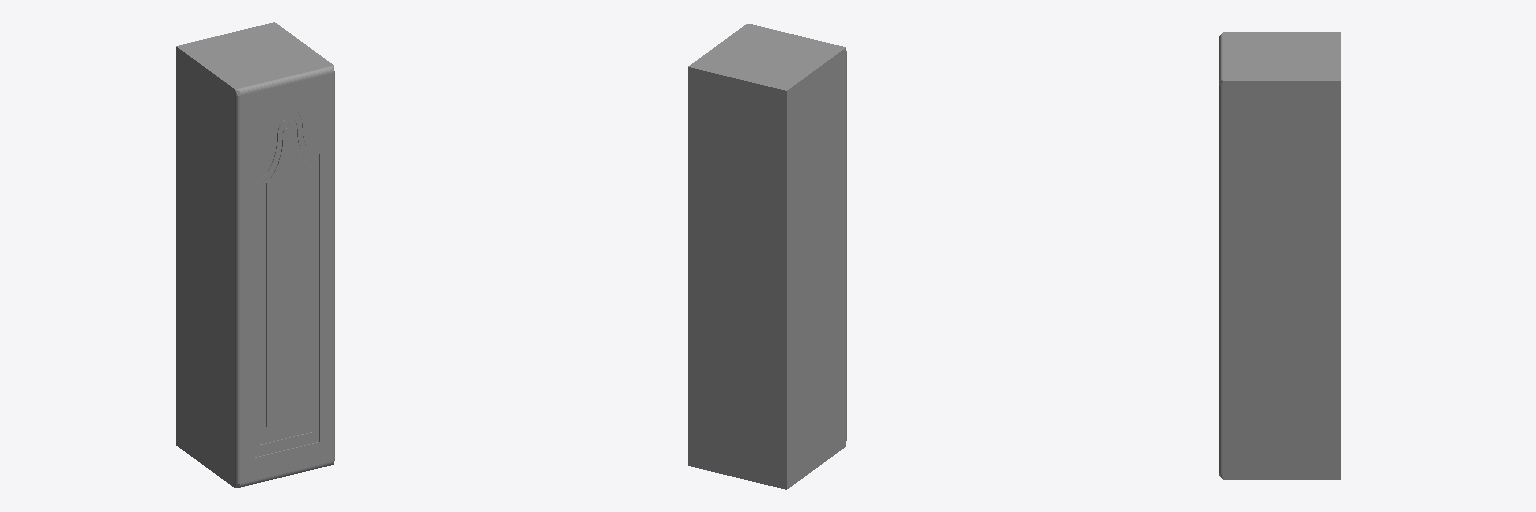
Rendered from larder-unit-550.obj.
3 renders of one model, left to right at view 1: azimuth 30°, elevation 25°; view 2: azimuth 150°, elevation 25°; view 3: azimuth 270°, elevation 25°, orthographic.
Visible parts, largest first — view 1: Cube.003_Cube.008, Cube.002_Cube.004, Cube_Cube.002; view 2: Cube_Cube.002, Cube.002_Cube.004, Cube.001_Cube.003; view 3: Cube.001_Cube.003, Cube_Cube.002, Cube.003_Cube.008.
Boxes of the visible parts, x1,y1,x2,y2 form: Cube.003_Cube.008: [235, 65, 334, 487]; Cube.002_Cube.004: [176, 46, 236, 487]; Cube_Cube.002: [179, 23, 330, 88]; Cube_Cube.002: [691, 24, 842, 488]; Cube.002_Cube.004: [784, 47, 845, 489]; Cube.001_Cube.003: [688, 24, 748, 465]; Cube.001_Cube.003: [1223, 79, 1340, 479]; Cube_Cube.002: [1223, 34, 1340, 78]; Cube.003_Cube.008: [1219, 33, 1222, 478].
Bounding box in the file's own units: 110 × 424 × 118.